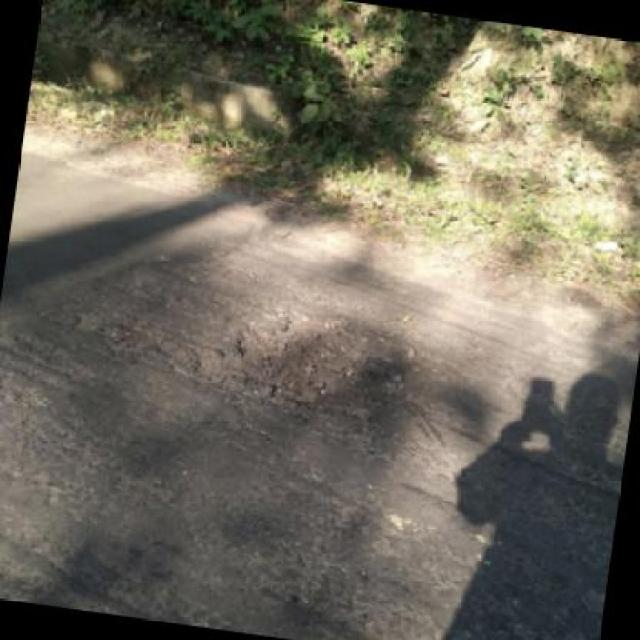pothole1: (177, 290, 386, 428)
